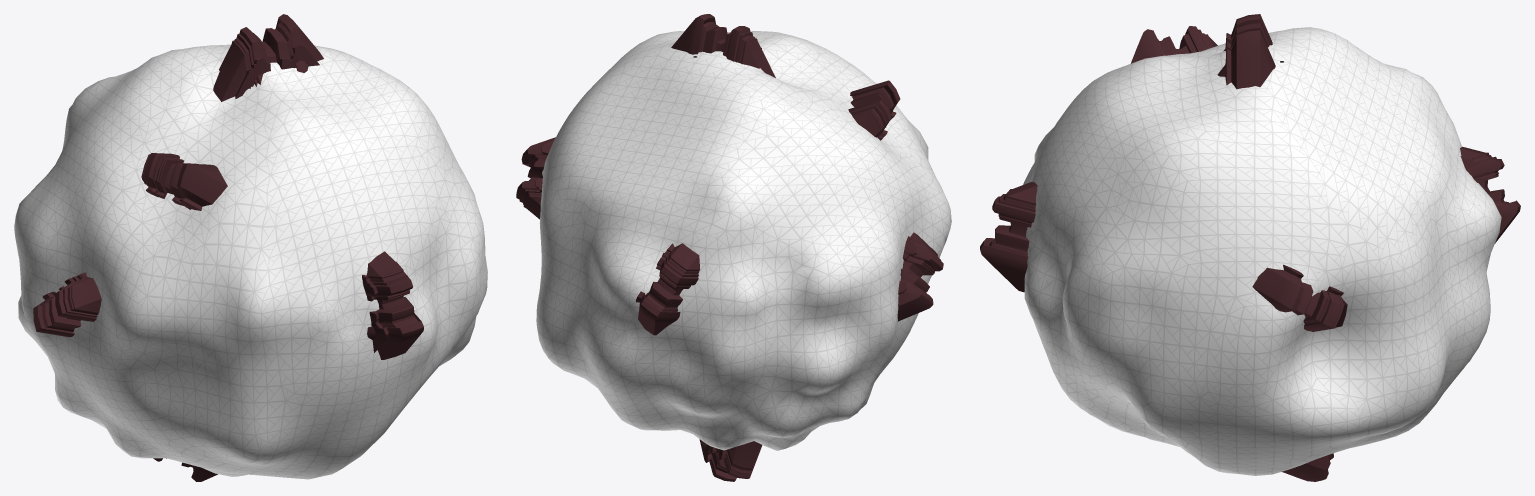
File: the planet i guess.fbx
3 renders of one model, left to right at view 1: azimuth 30°, elevation 25°; view 2: azimuth 150°, elevation 25°; view 3: azimuth 270°, elevation 25°, orthographic. The views are drawn at different scales.
Visible parts, largest first — view 1: Icosphere, rect1002, rect1002.002, rect1002.001, rect1002.005; view 2: Icosphere, rect1002.006, rect1002, rect1002.005, rect1002.001, rect1002.003, rect1002.004; view 3: Icosphere, rect1002.002, rect1002.004, rect1002, rect1002.006, rect1002.001, rect1002.003.
Part boxes in pixels (x1,y1,x2,y2): Icosphere: (14,44,487,479); rect1002: (213,14,323,101); rect1002.002: (362,251,423,359); rect1002.001: (141,153,227,210); rect1002.005: (33,272,101,337); Icosphere: (536,31,951,450); rect1002.006: (636,243,700,335); rect1002: (671,14,775,77); rect1002.005: (897,232,943,321); rect1002.001: (848,80,900,140); rect1002.003: (699,439,762,481); rect1002.004: (516,137,555,219); Icosphere: (1023,27,1501,475); rect1002.002: (980,182,1037,292); rect1002.004: (1252,264,1347,331); rect1002: (1217,14,1275,89); rect1002.006: (1460,146,1520,243); rect1002.001: (1131,26,1217,63); rect1002.003: (1282,453,1333,481).
Size of the model in its own units: 22402 by 23550 by 24008.
3 materials, 1 textured.
